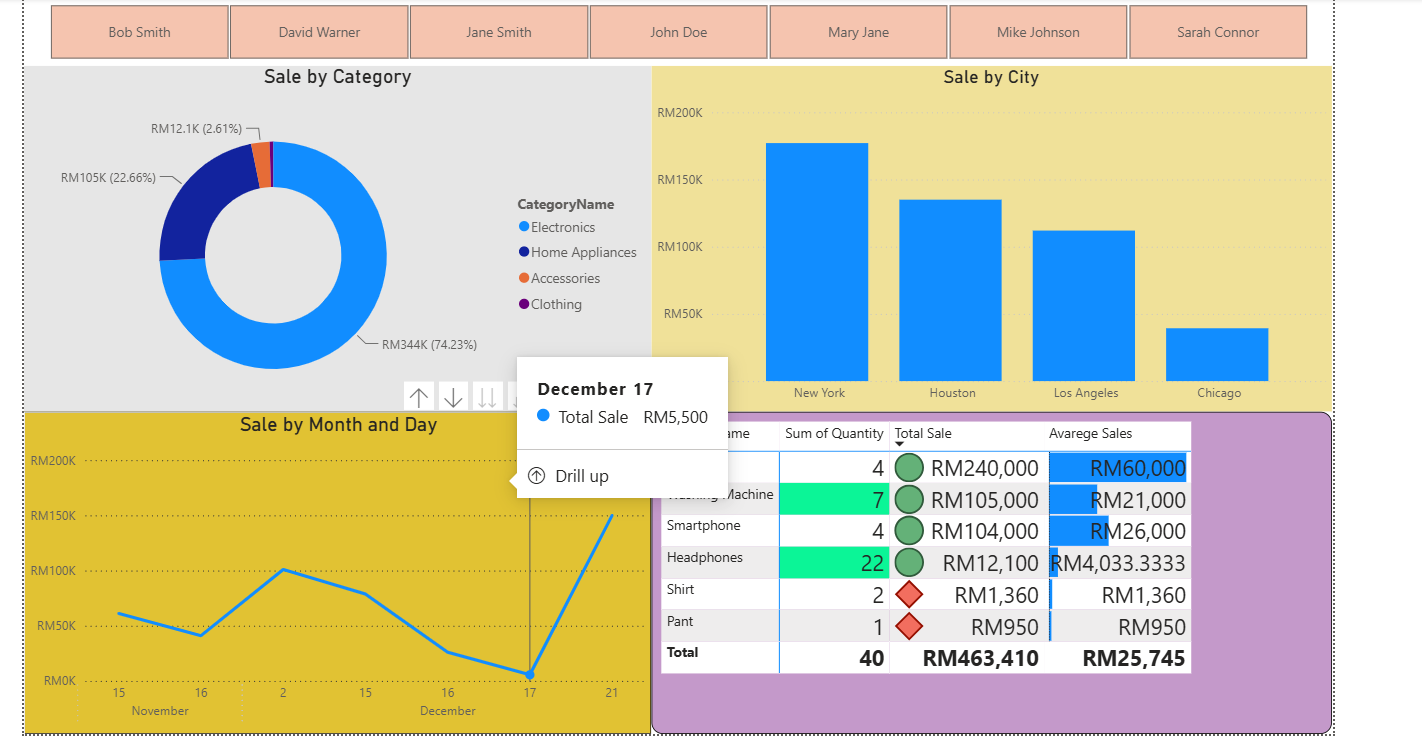

This screenshot's page, from the dashboard's own definition file:
{"tool":"powerbi","page":{"name":"Page 2","canvas":[1280,720],"ordinal":0},"visuals":[{"type":"clusteredColumnChart","title":" Sale by City","fields":{"Category":["Customers.City"],"Y":["OrderItems.Total Sale"]},"box":[613.9,66,665.2,338.7],"z":0},{"type":"donutChart","title":" Sale by Category","fields":{"Category":["Category.CategoryName"],"Y":["OrderItems.Total Sale"]},"box":[0,66,613.9,338.7],"z":1000},{"type":"lineChart","title":" Sale by Month and Day","fields":{"Category":["Date.Date.Variation.Date Hierarchy.Month","Date.Date.Variation.Date Hierarchy.Day"],"Y":["OrderItems.Total Sale"]},"box":[0,404.8,613.9,315.5],"z":2000},{"type":"pivotTable","title":"Sale by Product","fields":{"Rows":["Products.ProductName"],"Values":["Sum(OrderItems.Quantity)","OrderItems.Total Sale","OrderItems.Avarege Sales"]},"box":[613.9,404.8,665.2,315.5],"z":3000},{"type":"slicer","fields":{"Values":["Customers.CustomerName"]},"box":[0,0,1279.1,66],"z":3001}]}

Visuals, with their boxes in screenshot pixels (x1, y1, x2, y2):
" Sale by City" clusteredColumnChart: rect(656, 67, 1331, 411)
" Sale by Category" donutChart: rect(33, 67, 656, 411)
" Sale by Month and Day" lineChart: rect(33, 411, 656, 731)
"Sale by Product" pivotTable: rect(656, 411, 1331, 731)
slicer - Customers.CustomerName: rect(33, 0, 1331, 67)
